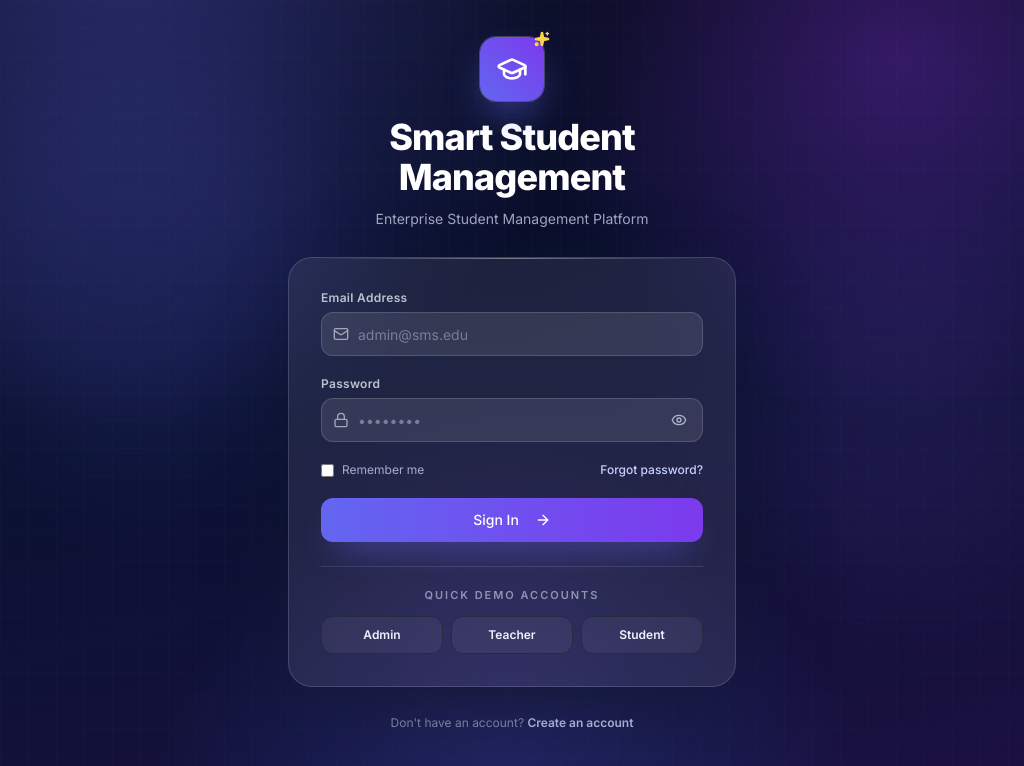
Scenario: Login page › shows an error alert when login fails
Type "bad@sms.edu" into the field with placeholder "admin@sms.edu" at (512, 334), box [321,312,703,356]
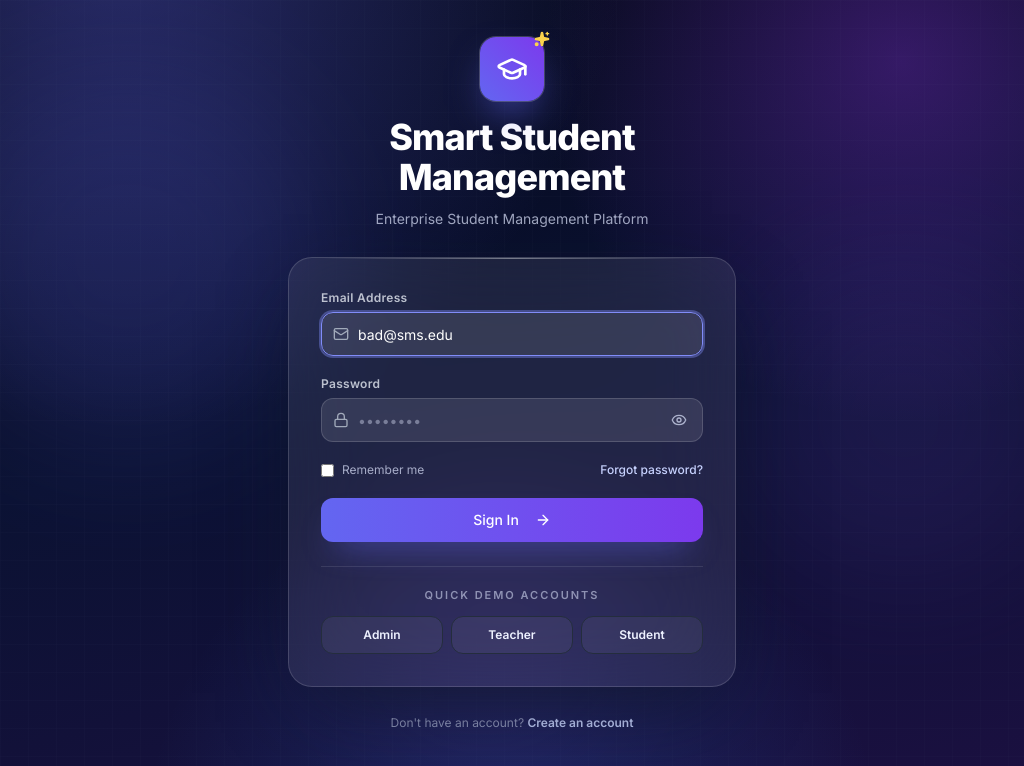
Type "wrong" into the password field with placeholder "••••••••" at (512, 420), box [321,398,703,442]
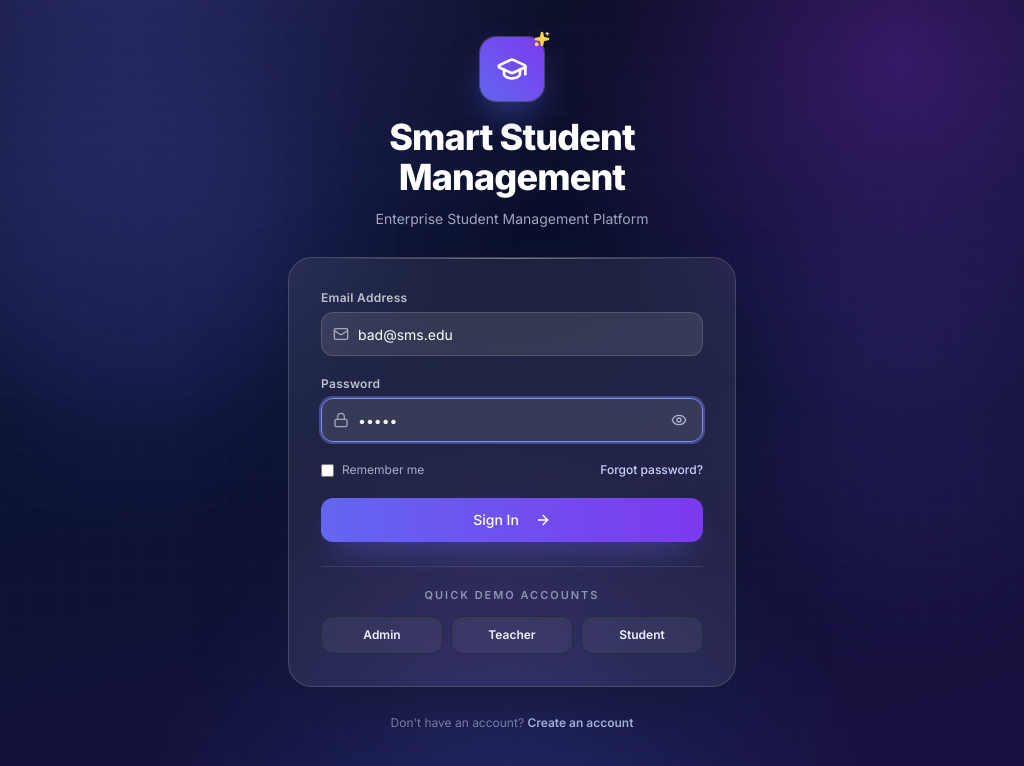
Click the button "Sign In" at (512, 520), box [321,498,703,542]
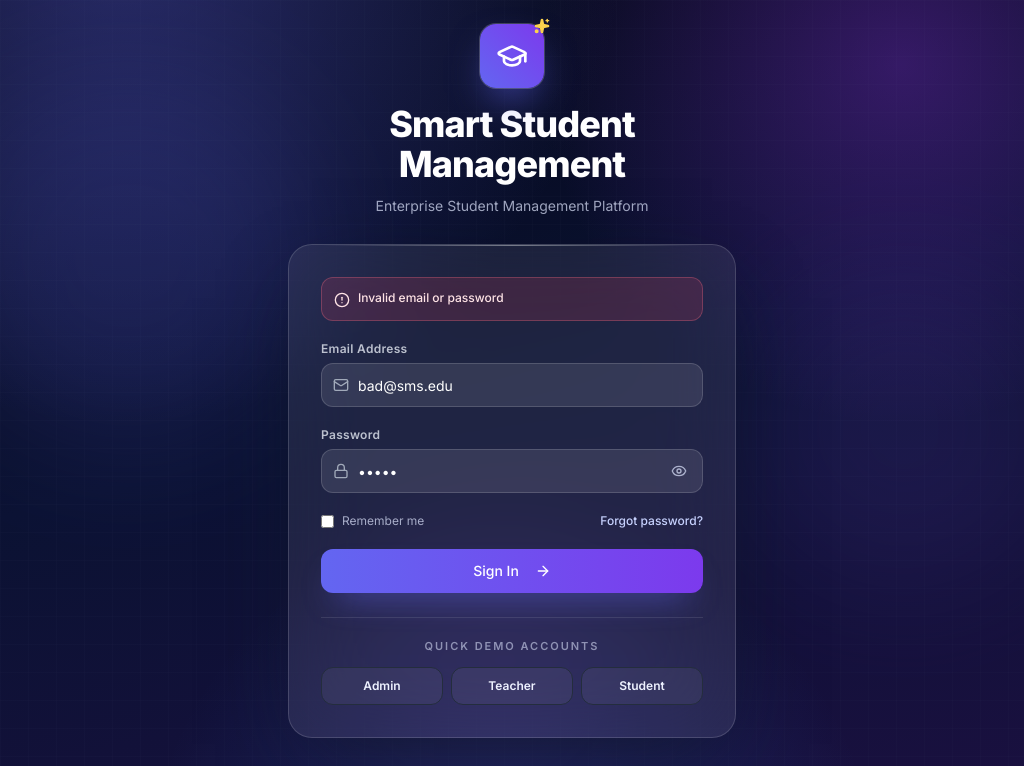
Result: the message reads "Invalid email or password" at [358,290,504,305]
